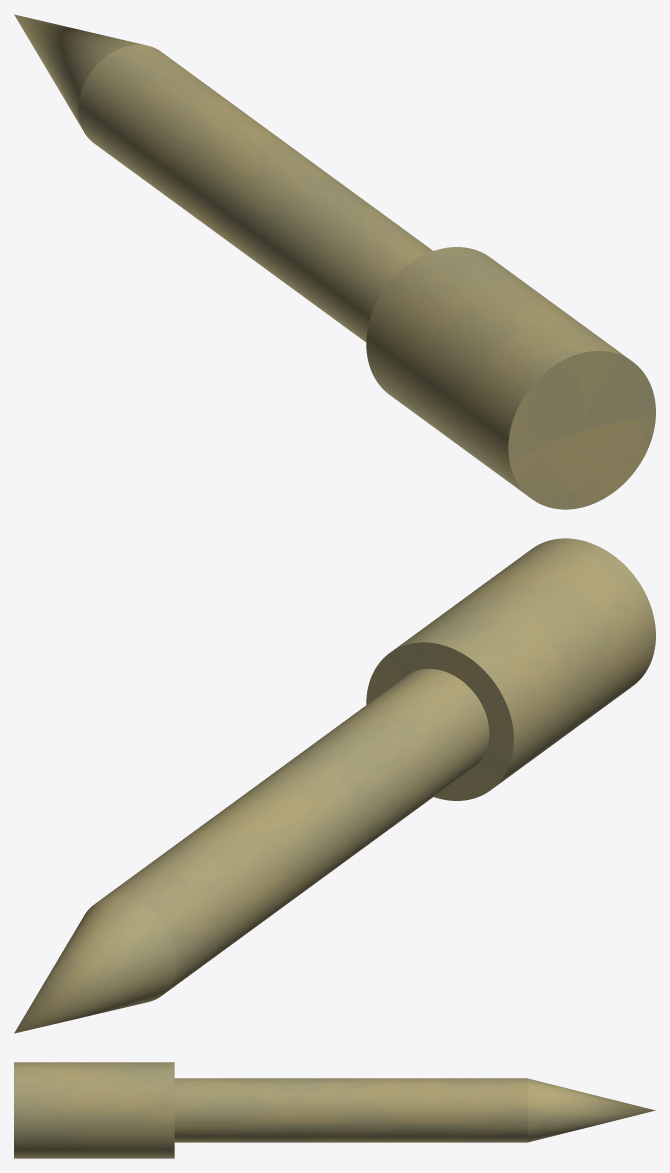
Rendered from probe.obj.
The picture shows the model from 3 angles, top to bottom: view 1: azimuth 30°, elevation 25°; view 2: azimuth 150°, elevation 25°; view 3: azimuth 270°, elevation 25°; orthographic projection. The views are drawn at different scales.
Parts seen in each view (by area): view 1: geometry_0; view 2: geometry_0; view 3: geometry_0.
Part boxes in pixels (box(x1,y1,x2,y2)): geometry_0: box(14, 14, 655, 509); geometry_0: box(14, 538, 655, 1033); geometry_0: box(14, 1062, 655, 1158).
Bounding box in the file's own units: 0.03 × 0.03 × 0.2.
Materials: 1 (1 with a texture image).
